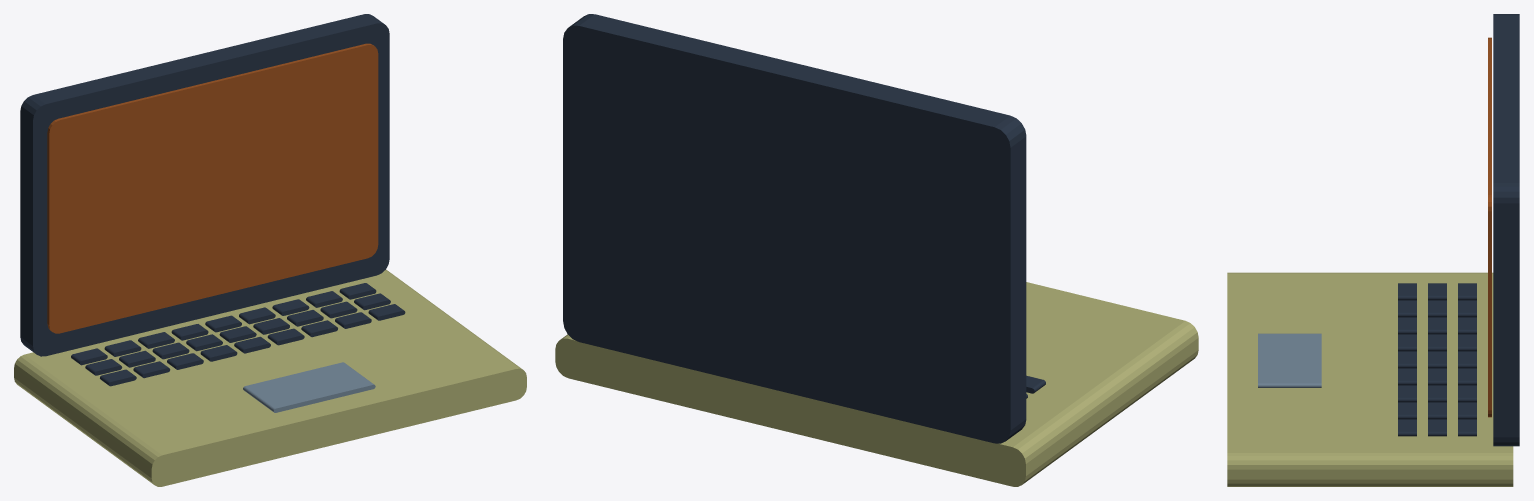
The model's file is laptop.glb.
The picture shows the model from 3 angles, left to right: view 1: azimuth 30°, elevation 25°; view 2: azimuth 150°, elevation 25°; view 3: azimuth 270°, elevation 25°; orthographic projection. The views are drawn at different scales.
Visible parts, largest first — view 1: display glass, base, display bezel, trackpad; view 2: display bezel, base; view 3: base, display bezel, trackpad, display glass, key 0-0, key 0-1, key 0-2, key 0-3, key 0-4, key 0-5, key 0-6, key 0-7 (+19 smaller).
Part boxes in pixels (x1,y1,x2,y2): display glass: (47, 43, 378, 333); base: (14, 269, 526, 486); display bezel: (20, 14, 389, 356); trackpad: (243, 362, 375, 412); display bezel: (563, 14, 1026, 443); base: (555, 282, 1198, 486); base: (1227, 272, 1513, 486); display bezel: (1493, 14, 1519, 446); trackpad: (1258, 333, 1321, 387); display glass: (1488, 37, 1491, 417); key 0-0: (1458, 283, 1476, 300); key 0-1: (1458, 300, 1476, 317); key 0-2: (1458, 317, 1476, 334); key 0-3: (1458, 334, 1476, 351); key 0-4: (1458, 351, 1476, 368); key 0-5: (1458, 368, 1476, 385); key 0-6: (1458, 385, 1476, 402); key 0-7: (1458, 402, 1476, 419).
Size of the model in its own units: 1.62 by 1.18 by 1.05.
